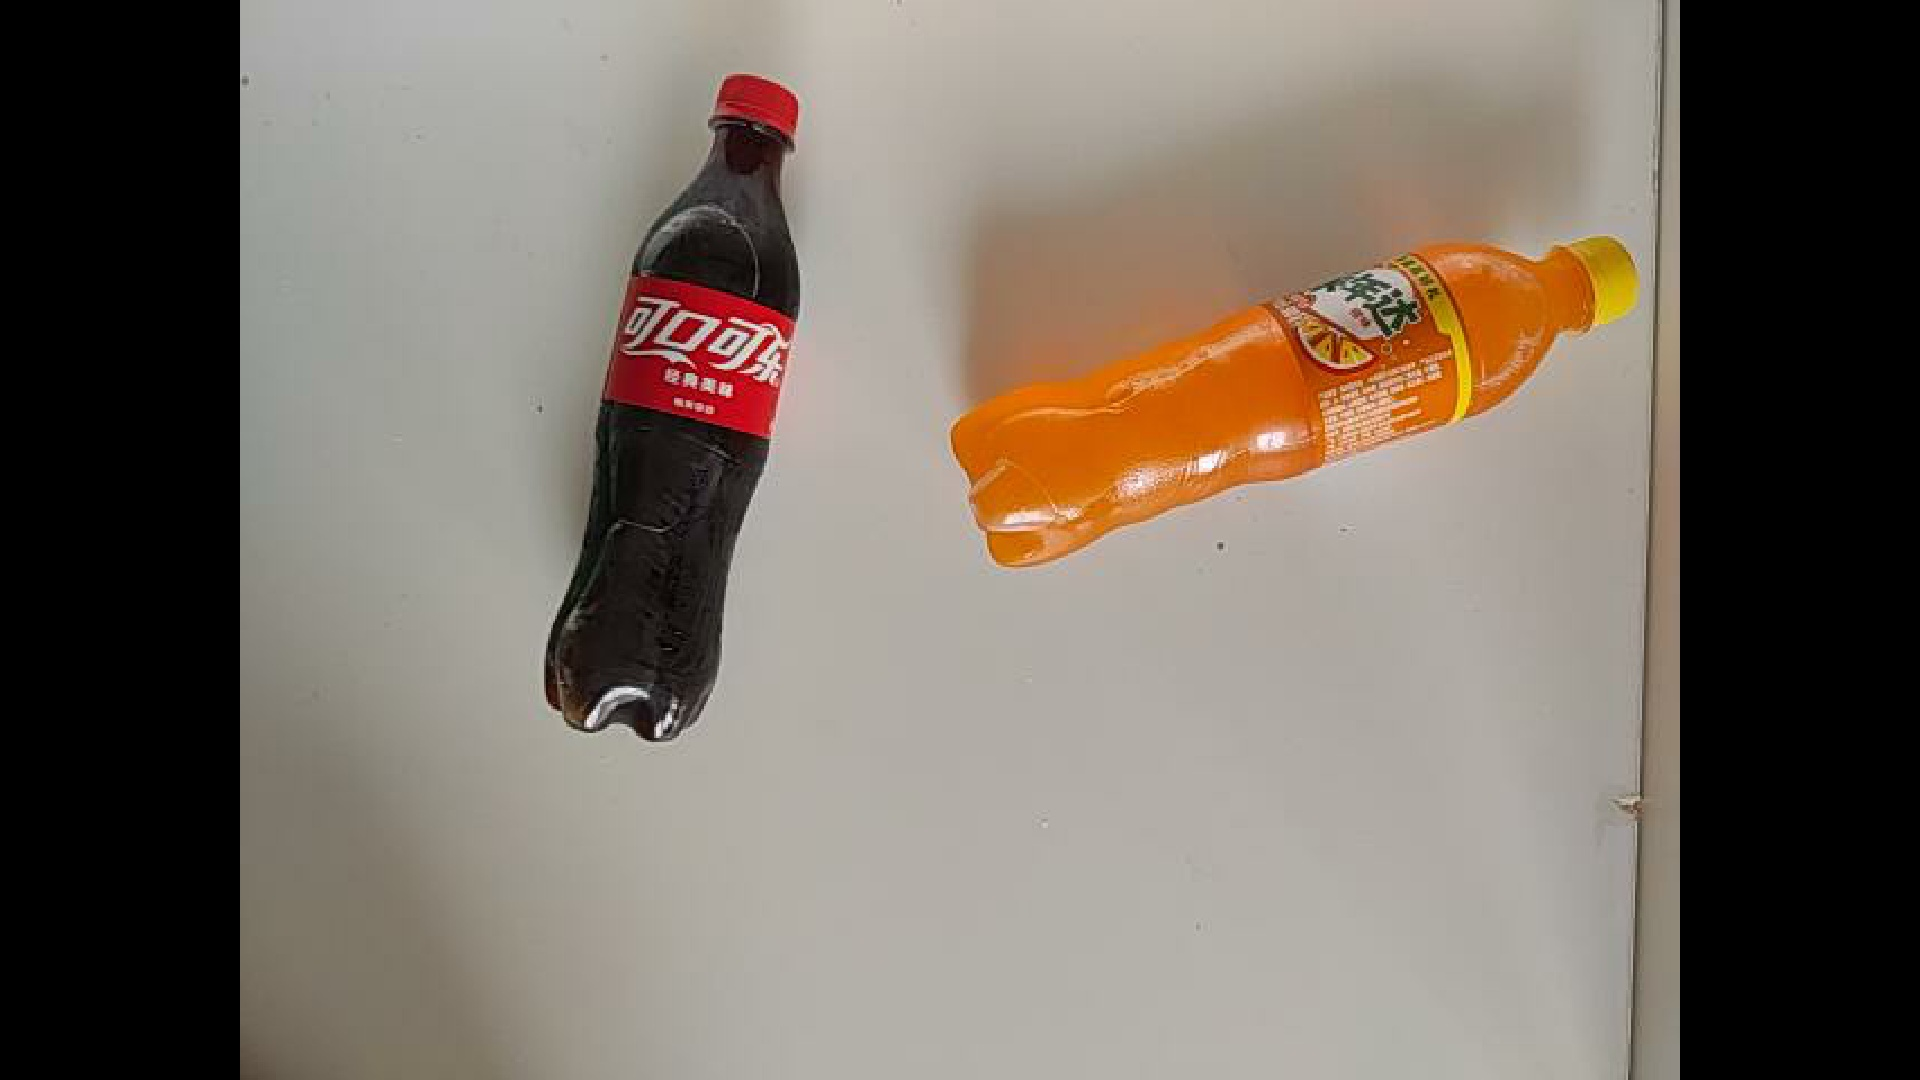cola: (526, 71, 963, 760)
fenta: (934, 280, 1714, 583)
